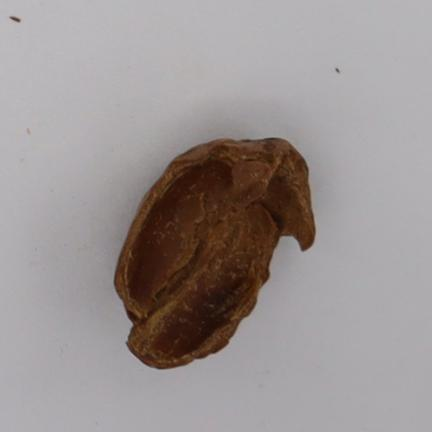full-black: (115, 138, 314, 368)
